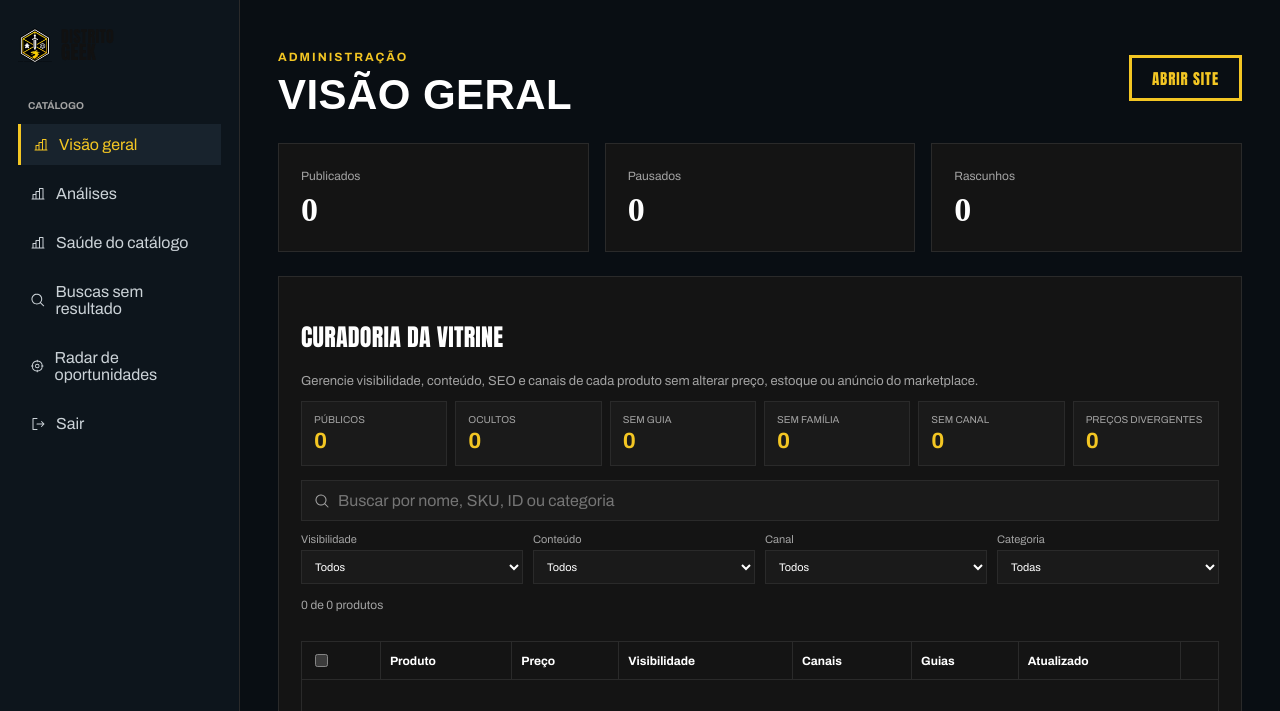
it: keeps acquisition reports in a dedicated Analytics navigation section
Check: the heading "Visão geral" is shown, box [278,76,572,115]
Step 1. Click the button "Análises" → (120, 194), box [18,173,221,214]
(page scrolled)
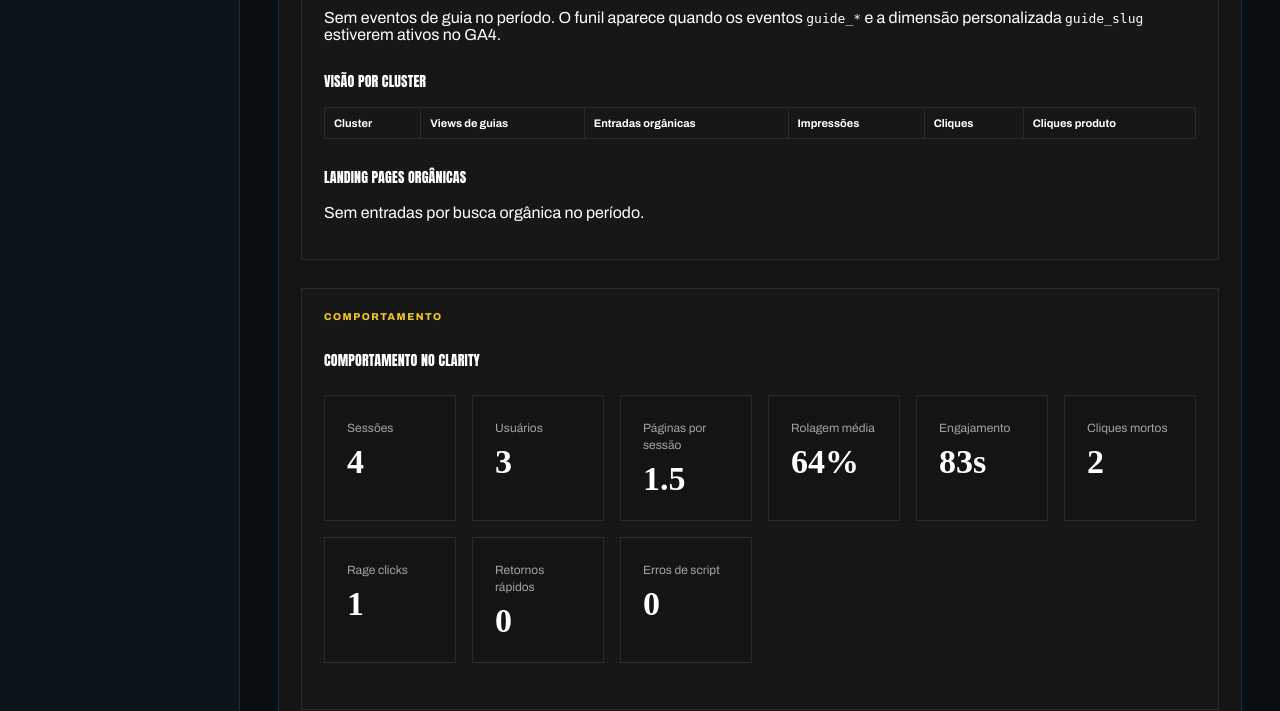
Check: the heading "Comportamento no Clarity" is shown, box [324,350,480,371]
